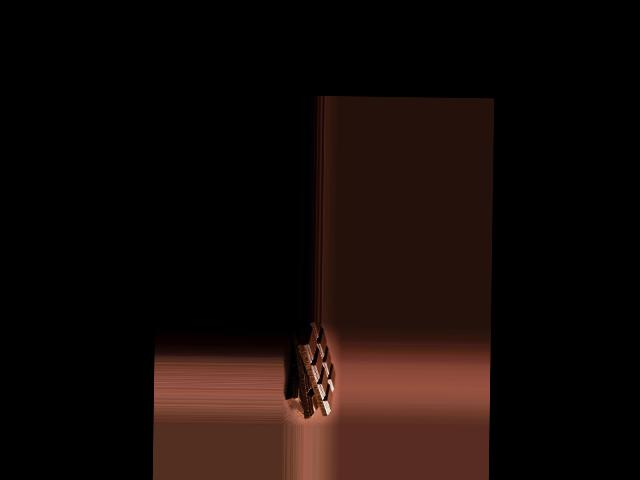chocolate: (291, 324, 335, 418)
